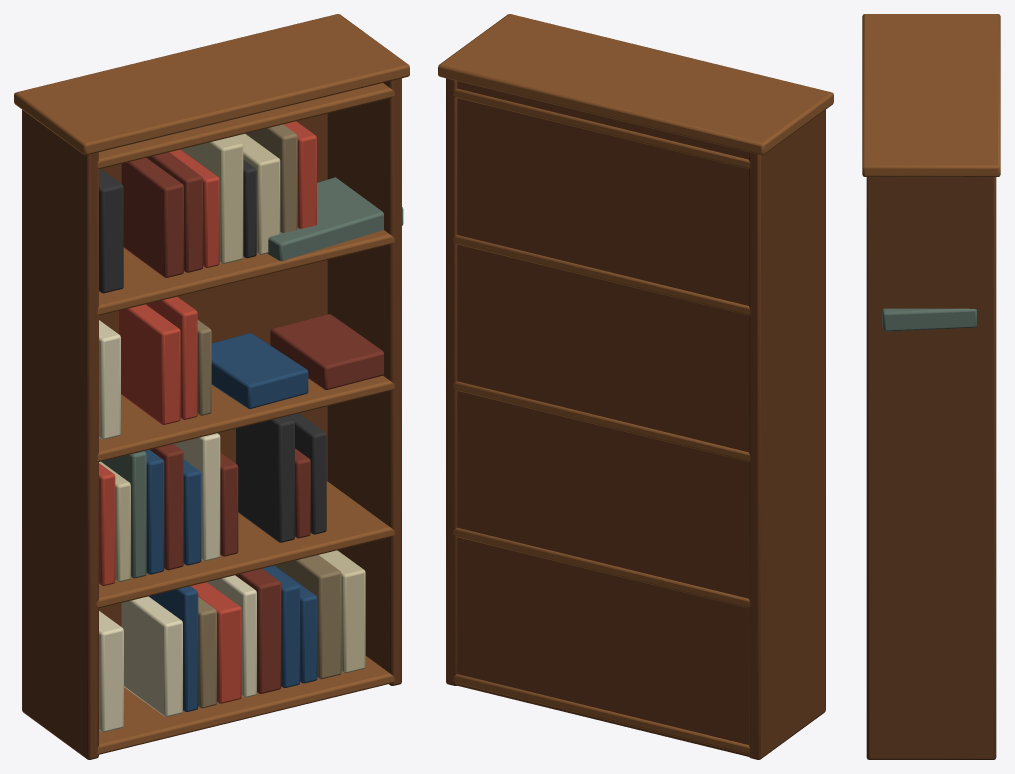
Rendered from KeSachHoSo_Go.glb.
The picture shows the model from 3 angles, left to right: view 1: azimuth 30°, elevation 25°; view 2: azimuth 150°, elevation 25°; view 3: azimuth 270°, elevation 25°; orthographic projection. The views are drawn at different scales.
Visible parts, largest first — view 1: KeSachHoSo_Go; view 2: KeSachHoSo_Go; view 3: KeSachHoSo_Go.
Boxes of the visible parts, box(x1,y1,x2,y2) form: KeSachHoSo_Go: box(14, 14, 409, 759); KeSachHoSo_Go: box(438, 14, 833, 759); KeSachHoSo_Go: box(862, 14, 1000, 759).
Size of the model in its own units: 0.8499 by 1.52 by 0.32.
